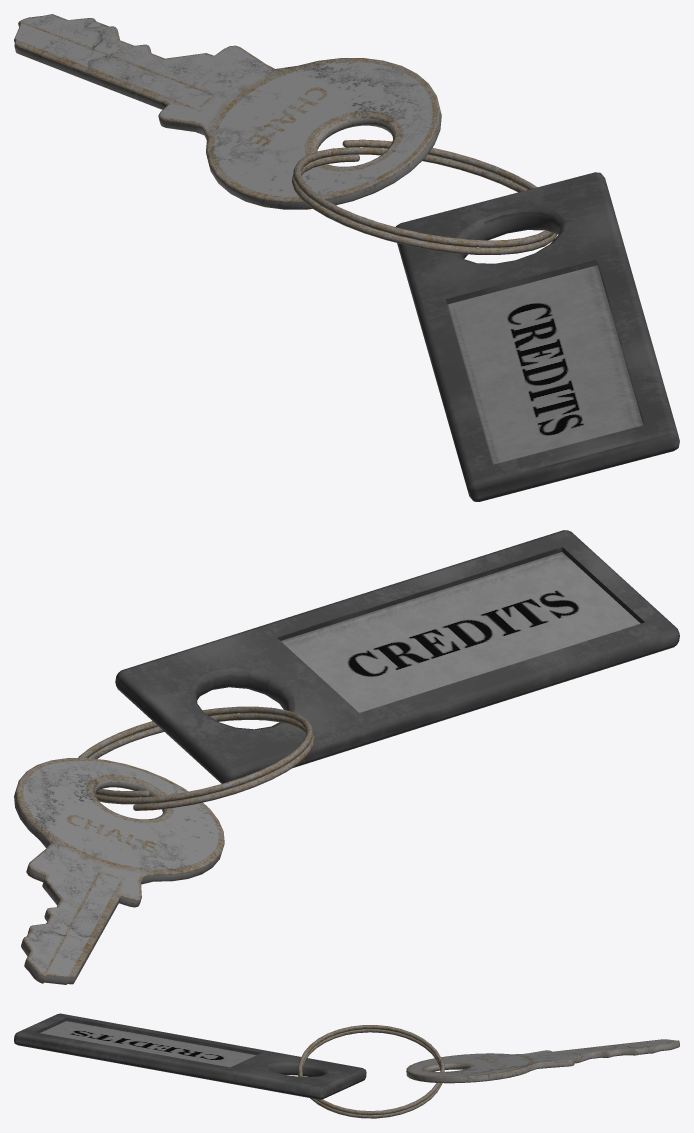
Rendered from keys.glb.
3 views of the same model, one above another, from view 1: azimuth 30°, elevation 25°; view 2: azimuth 150°, elevation 25°; view 3: azimuth 270°, elevation 25° (orthographic). The views are drawn at different scales.
Parts seen in each view (by area): view 1: SM_KeyTag, SM_Key, SM_Ring; view 2: SM_KeyTag, SM_Key, SM_Ring; view 3: SM_KeyTag, SM_Key, SM_Ring.
Part boxes in pixels (left/top/right/bottom): SM_KeyTag: left=396, top=172, right=679, bottom=501; SM_Key: left=14, top=14, right=441, bottom=209; SM_Ring: left=292, top=139, right=557, bottom=254; SM_KeyTag: left=115, top=530, right=679, bottom=783; SM_Key: left=14, top=758, right=224, bottom=984; SM_Ring: left=78, top=706, right=314, bottom=810; SM_KeyTag: left=14, top=1013, right=366, bottom=1099; SM_Key: left=406, top=1039, right=679, bottom=1083; SM_Ring: left=298, top=1025, right=444, bottom=1118.
Bounding box in the file's own units: 0.0492 × 0.0083 × 0.1395.
Materials: 3 (3 with a texture image).
